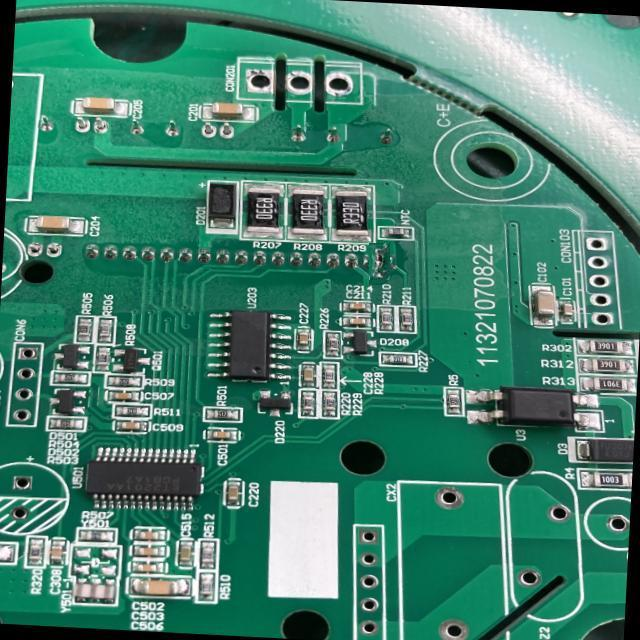damged: (365, 247, 394, 276)
